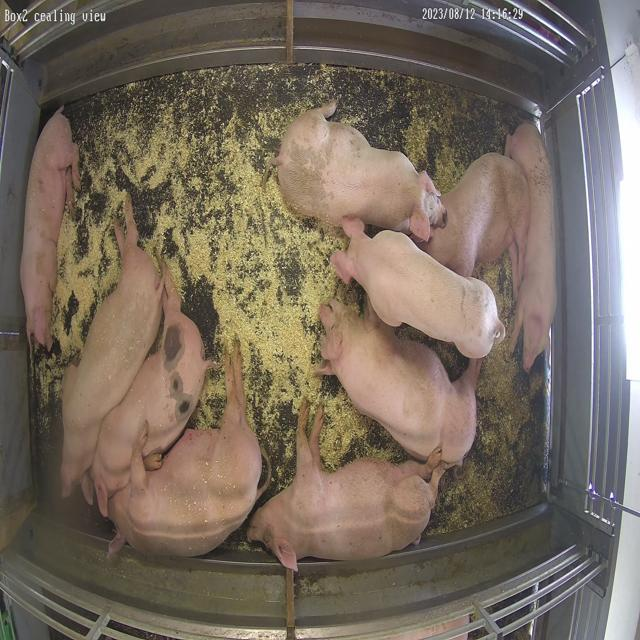Dirt: (427, 261, 548, 536), (404, 76, 472, 191)
Pig: (108, 346, 270, 558), (248, 403, 448, 572), (60, 201, 164, 498), (89, 275, 211, 516), (320, 300, 483, 466), (331, 218, 506, 359), (274, 100, 446, 241), (422, 153, 529, 296), (20, 110, 78, 346), (506, 122, 558, 370)
